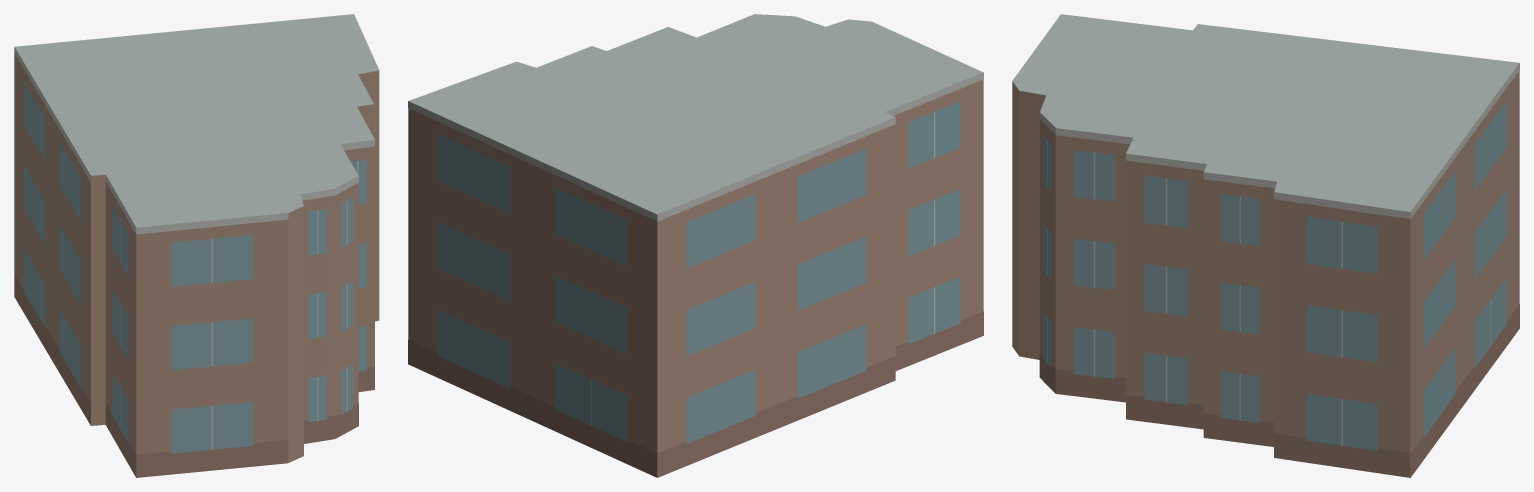
Rendered from survey-upis-32720236.glb.
3 renders of one model, left to right at view 1: azimuth 30°, elevation 25°; view 2: azimuth 150°, elevation 25°; view 3: azimuth 270°, elevation 25°, orthographic. The views are drawn at different scales.
Visible parts, largest first — view 1: survey-upis-32720236.tmp; view 2: survey-upis-32720236.tmp; view 3: survey-upis-32720236.tmp.
Boxes of the visible parts, <box> form: survey-upis-32720236.tmp: <box>14,14,379,477</box>; survey-upis-32720236.tmp: <box>408,14,983,477</box>; survey-upis-32720236.tmp: <box>1012,14,1519,477</box>.
Bounding box in the file's own units: 14.64 × 9.15 × 15.85.
